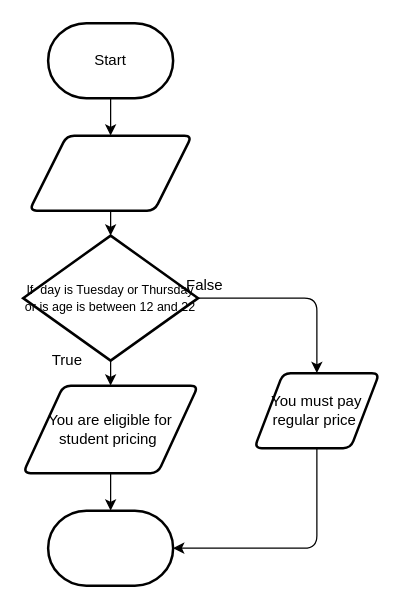
Image size: 401x608. Some labels were removed from this diagram. Here are the shapes that lost their labels. From the top down, the centre of each, then its label:
At (110,172): "Enter age and day".
At (110,547): "Stop".
